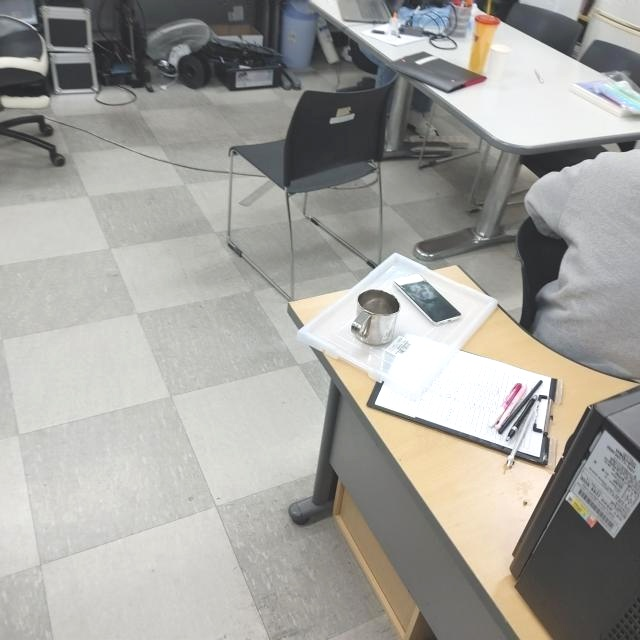cup: (349, 286, 402, 347)
phone: (392, 271, 464, 328)
